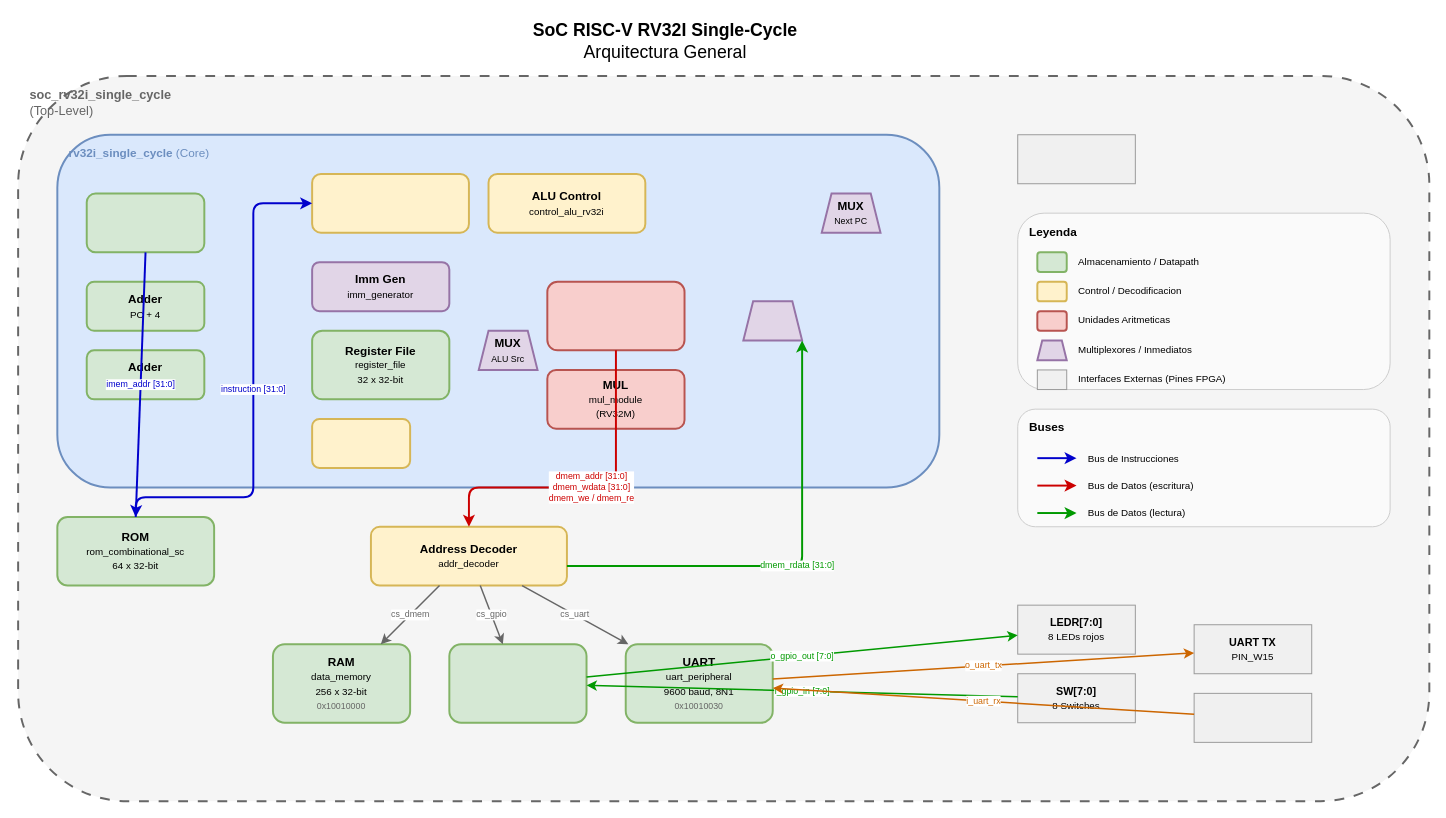
The diagram is 1446 pixels wide and 818 high, and some of its shapes have lost their labels. Each missing label, with the box of its shape:
ALU alu_riscv_rv32i 10 operaciones: (546, 280, 685, 351)
Branch Unit: (311, 417, 411, 468)
CLK (50 MHz) RST (SW9): (1017, 134, 1135, 184)
GPIO gpio_peripheral 0x10010020: (448, 643, 587, 723)
Main Control main_control_rv32i: (311, 172, 469, 233)
MUX Result: (742, 300, 803, 341)
PC program_counter: (85, 192, 205, 253)
UART RX PIN_AK2: (1193, 692, 1312, 742)
